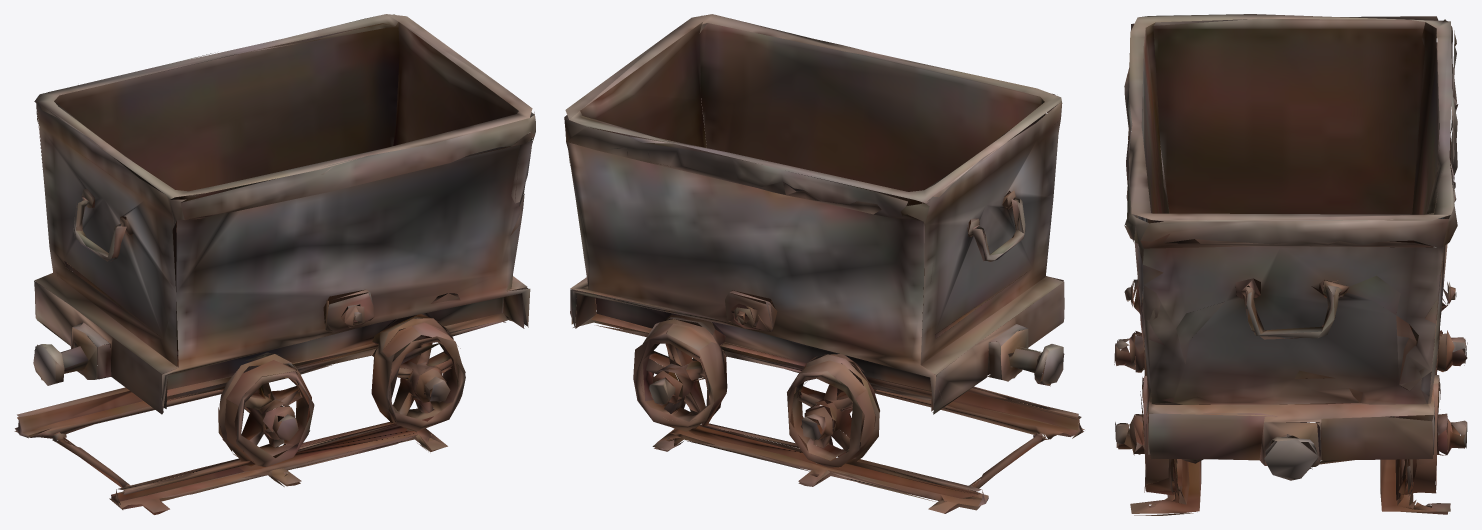
Rendered from vagoneta_vacia.movil.glb.
3 views of the same model, side by side, from view 1: azimuth 30°, elevation 25°; view 2: azimuth 150°, elevation 25°; view 3: azimuth 270°, elevation 25° (orthographic). The views are drawn at different scales.
Visible parts, largest first — view 1: geometry_0; view 2: geometry_0; view 3: geometry_0.
Boxes of the visible parts, bbox=[...] form: geometry_0: bbox=[14, 14, 535, 514]; geometry_0: bbox=[564, 14, 1084, 513]; geometry_0: bbox=[1114, 14, 1467, 515].
Size of the model in its own units: 1.5 by 0.9994 by 0.8982.
1 material, 1 textured.
